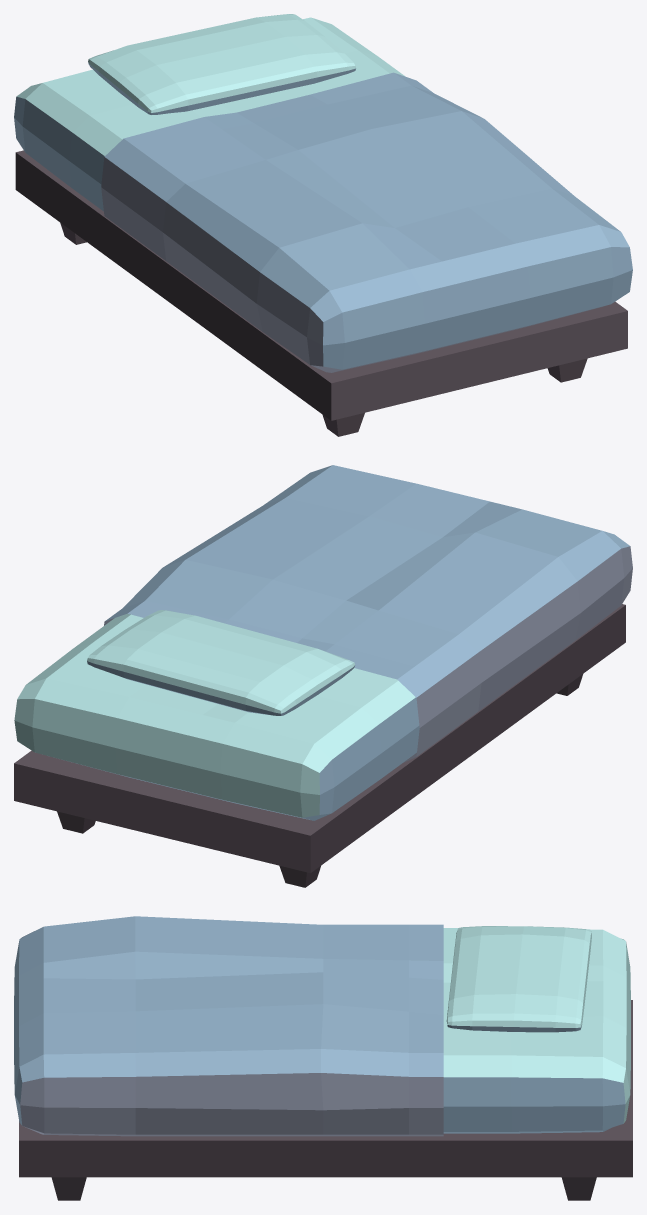
File: Bed V2 Single.fbx
3 renders of one model, top to bottom at view 1: azimuth 30°, elevation 25°; view 2: azimuth 150°, elevation 25°; view 3: azimuth 270°, elevation 25°, orthographic. The views are drawn at different scales.
Parts seen in each view (by area): view 1: Bed V2 Single; view 2: Bed V2 Single; view 3: Bed V2 Single.
Part boxes in pixels (left/top/right/bottom): Bed V2 Single: left=14, top=14, right=632, bottom=436; Bed V2 Single: left=14, top=465, right=632, bottom=887; Bed V2 Single: left=14, top=916, right=632, bottom=1200.
Size of the model in its own units: 275 by 147 by 462.
